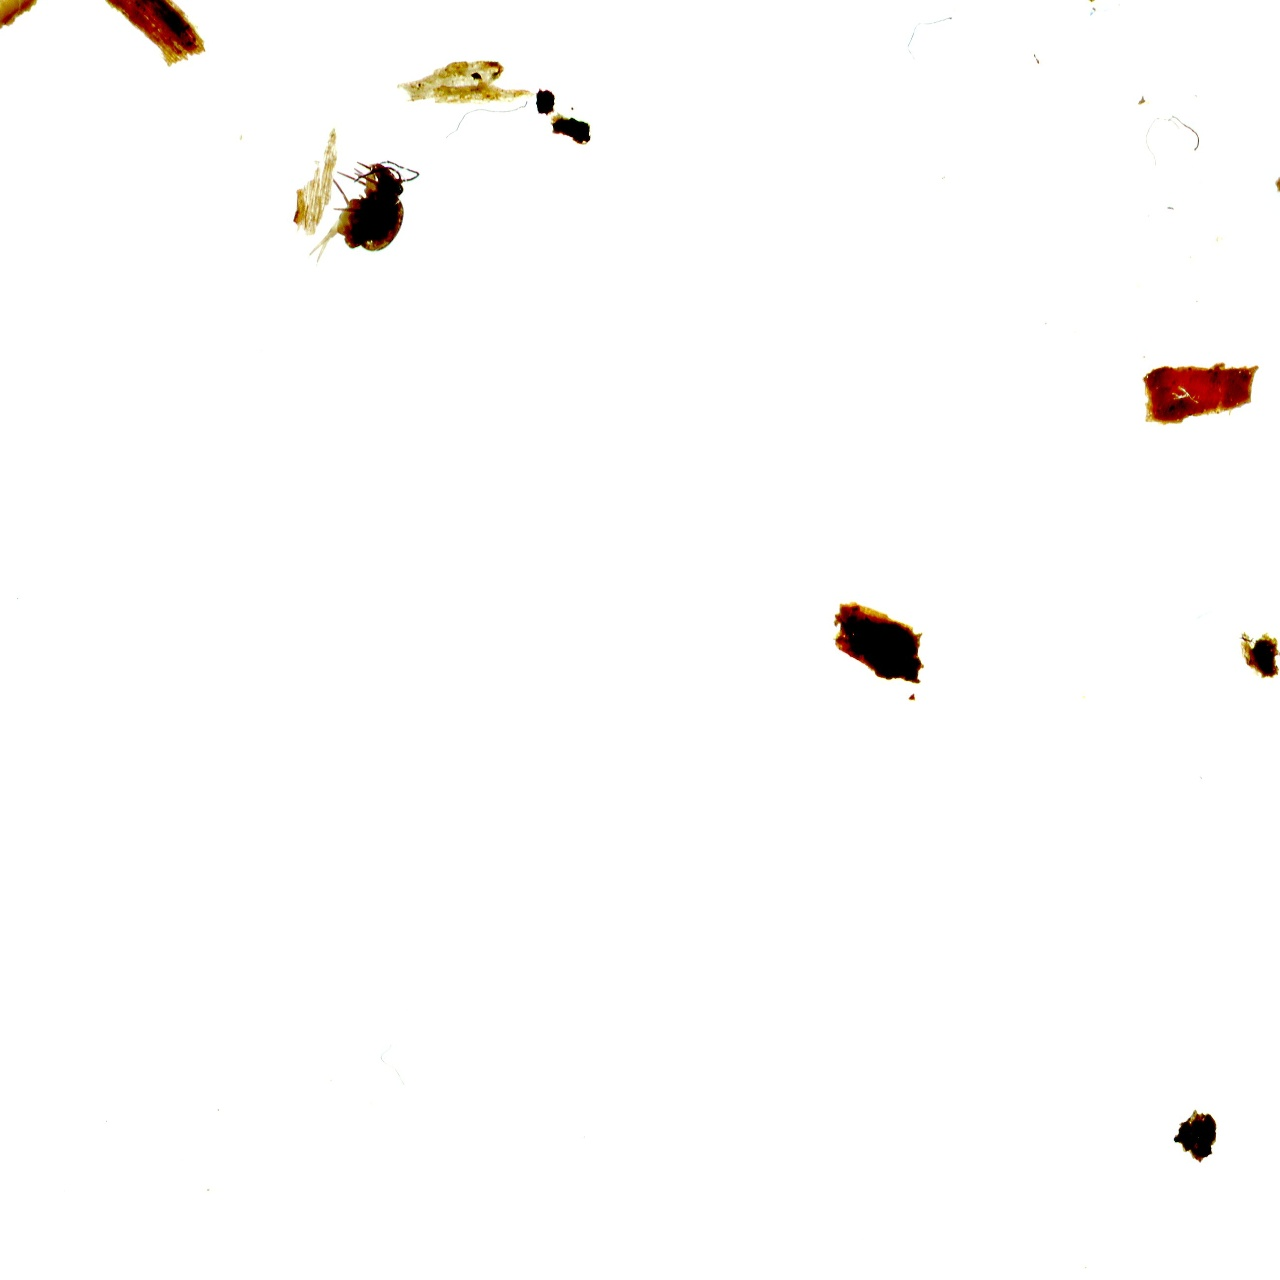arthropod: (305, 149, 424, 266)
